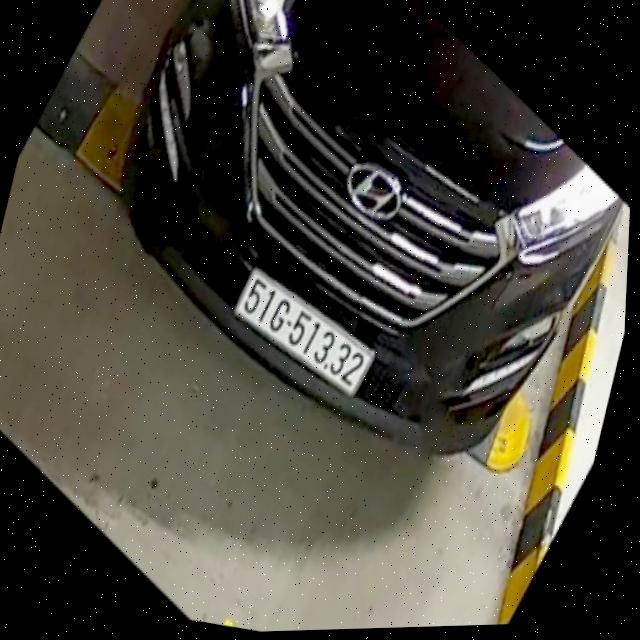car: (55, 0, 640, 500)
plate: (217, 261, 392, 406)
